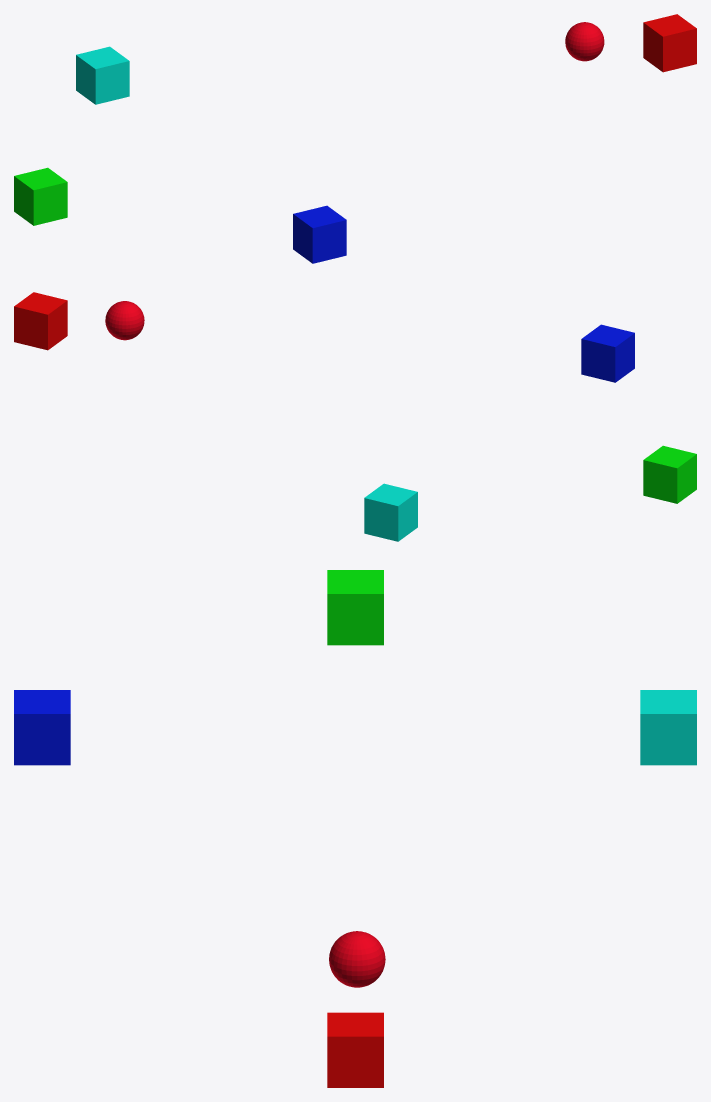
File: map.fbx
3 renders of one model, top to bottom at view 1: azimuth 30°, elevation 25°; view 2: azimuth 150°, elevation 25°; view 3: azimuth 270°, elevation 25°, orthographic. The views are drawn at different scales.
Visible parts, largest first — view 1: Castle-2, Castle-1, Castle-3, Castle-4, Unit-1; view 2: Castle-1, Castle-2, Castle-4, Castle-3, Unit-1; view 3: Castle-1, Castle-2, Castle-3, Castle-4, Unit-1.
Part boxes in pixels (box(x1,y1,x2,y2)): Castle-2: box(293, 205, 346, 263); Castle-1: box(643, 14, 696, 72); Castle-3: box(14, 167, 67, 225); Castle-4: box(76, 46, 129, 104); Unit-1: box(565, 22, 604, 61); Castle-1: box(14, 292, 67, 350); Castle-2: box(581, 324, 634, 382); Castle-4: box(364, 483, 417, 541); Castle-3: box(643, 445, 696, 503); Unit-1: box(105, 301, 144, 340); Castle-1: box(327, 1012, 383, 1087); Castle-2: box(14, 690, 70, 765); Castle-3: box(327, 570, 383, 645); Castle-4: box(640, 690, 696, 765); Unit-1: box(329, 931, 385, 987).
Size of what is drawn, in the model's own units: 38.99 by 3.22 by 24.12.
